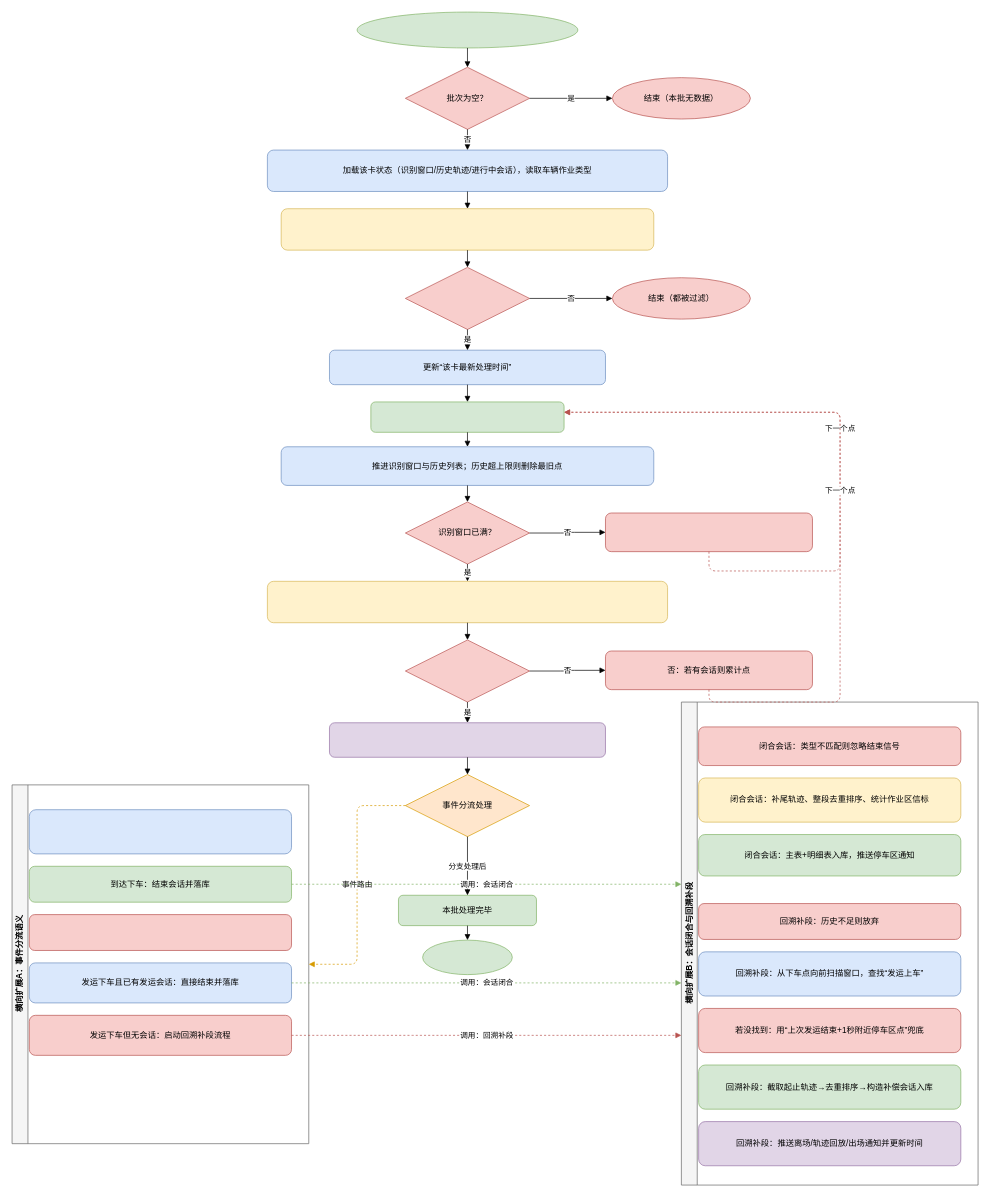
Image size: 990x1197. Some labels were removed from this diagram. Each missing label, with the centre of its shape:
"到达上车：必要时先结束上一段，再开启新会话" belongs at (x=160, y=831).
"发运上车：当前实现不直接开段" belongs at (x=160, y=932).
"否：若有进行中会话，先累计这个点" belongs at (x=708, y=532).
"开始：RealTimeDriverTracker" belongs at (x=467, y=29).
"循环处理本批每个点" belongs at (x=467, y=416).
"窗口状态分析；按车辆类型选择策略识别当前事件" belongs at (x=467, y=602).
"结束" belongs at (x=467, y=957).
"若已有会话：推送一条实时轨迹" belongs at (x=467, y=739).
"识别到有效事件？" belongs at (x=467, y=670).
"预处理后还有点？" belongs at (x=467, y=298).
"预处理：补时间戳 → 异常过滤 → 排序去重 → 丢弃已处理旧点" belongs at (x=467, y=229).
